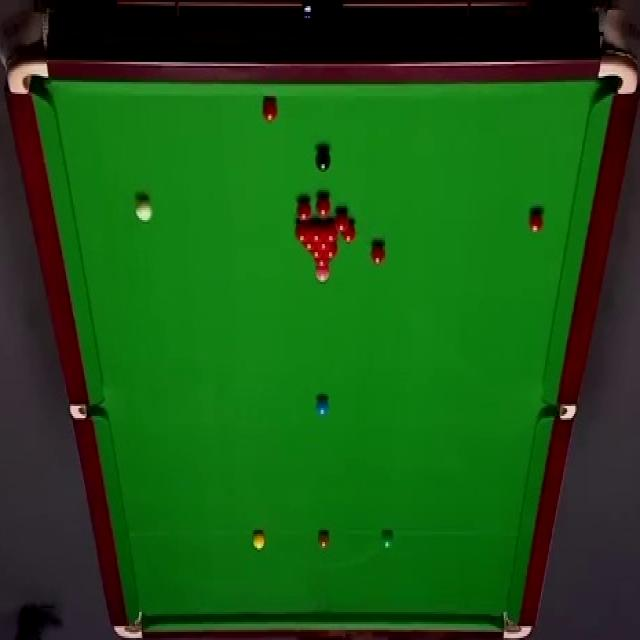black-ball: (316, 146, 332, 172)
blue-ball: (316, 397, 329, 416)
brown-ball: (317, 530, 330, 549)
green-ball: (381, 530, 394, 550)
pink-ball: (315, 272, 329, 284)
red-ball: (527, 207, 544, 234), (262, 98, 278, 122), (316, 191, 331, 215), (324, 220, 339, 243), (371, 242, 385, 266), (297, 200, 312, 222), (294, 222, 309, 244), (342, 220, 356, 243), (334, 210, 348, 232), (309, 222, 323, 244), (325, 244, 338, 260), (312, 260, 330, 270), (308, 250, 324, 260), (316, 243, 332, 251), (302, 242, 316, 251)
white-ball: (135, 196, 151, 226)
yellow-ball: (252, 531, 264, 549)
